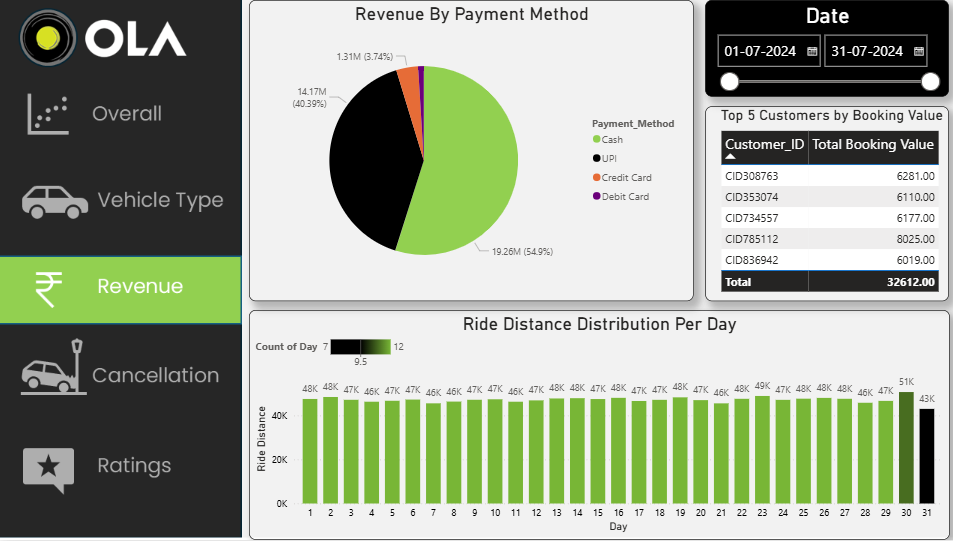

Layout of this report page (visuals, bound fields, positions):
{"tool":"powerbi","page":{"name":"Revenue","canvas":[1280,720],"ordinal":2},"visuals":[{"type":"actionButton","box":[0,222.5,325,90],"z":0},{"type":"actionButton","box":[0,450,325,90],"z":1000},{"type":"actionButton","box":[0,580,325,90],"z":2000},{"type":"actionButton","box":[0,112.5,325,90],"z":3000},{"type":"pieChart","title":"Revenue By Payment Method","fields":{"Y":["July.Total Booking Value"],"Category":["July.Payment_Method"]},"box":[333.8,0,592.5,401.2],"z":4000},{"type":"tableEx","title":"Top 5 Customers by Booking Value","fields":{"Values":["July.Customer_ID","July.Total Booking Value"]},"box":[941.2,141,325,260],"z":5000},{"type":"columnChart","title":"Ride Distance Distribution Per Day","fields":{"Category":["July.Date.Variation.Date Hierarchy.Day"],"Y":["Sum(July.Ride_Distance)"]},"box":[334,414,934,306],"z":6000},{"type":"slicer","title":"Date","fields":{"Values":["July.Date"]},"box":[941.2,0,325,128.8],"z":7000}]}

Visuals, with their boxes in screenshot pixels (x1, y1, x2, y2), scaled from the page's 1280x720 canvas onto the 953x541 screenshot:
actionButton: box=[0, 167, 242, 235]
actionButton: box=[0, 338, 242, 406]
actionButton: box=[0, 436, 242, 503]
actionButton: box=[0, 85, 242, 152]
"Revenue By Payment Method" pieChart: box=[249, 0, 690, 301]
"Top 5 Customers by Booking Value" tableEx: box=[701, 106, 943, 301]
"Ride Distance Distribution Per Day" columnChart: box=[249, 311, 944, 540]
"Date" slicer: box=[701, 0, 943, 97]
